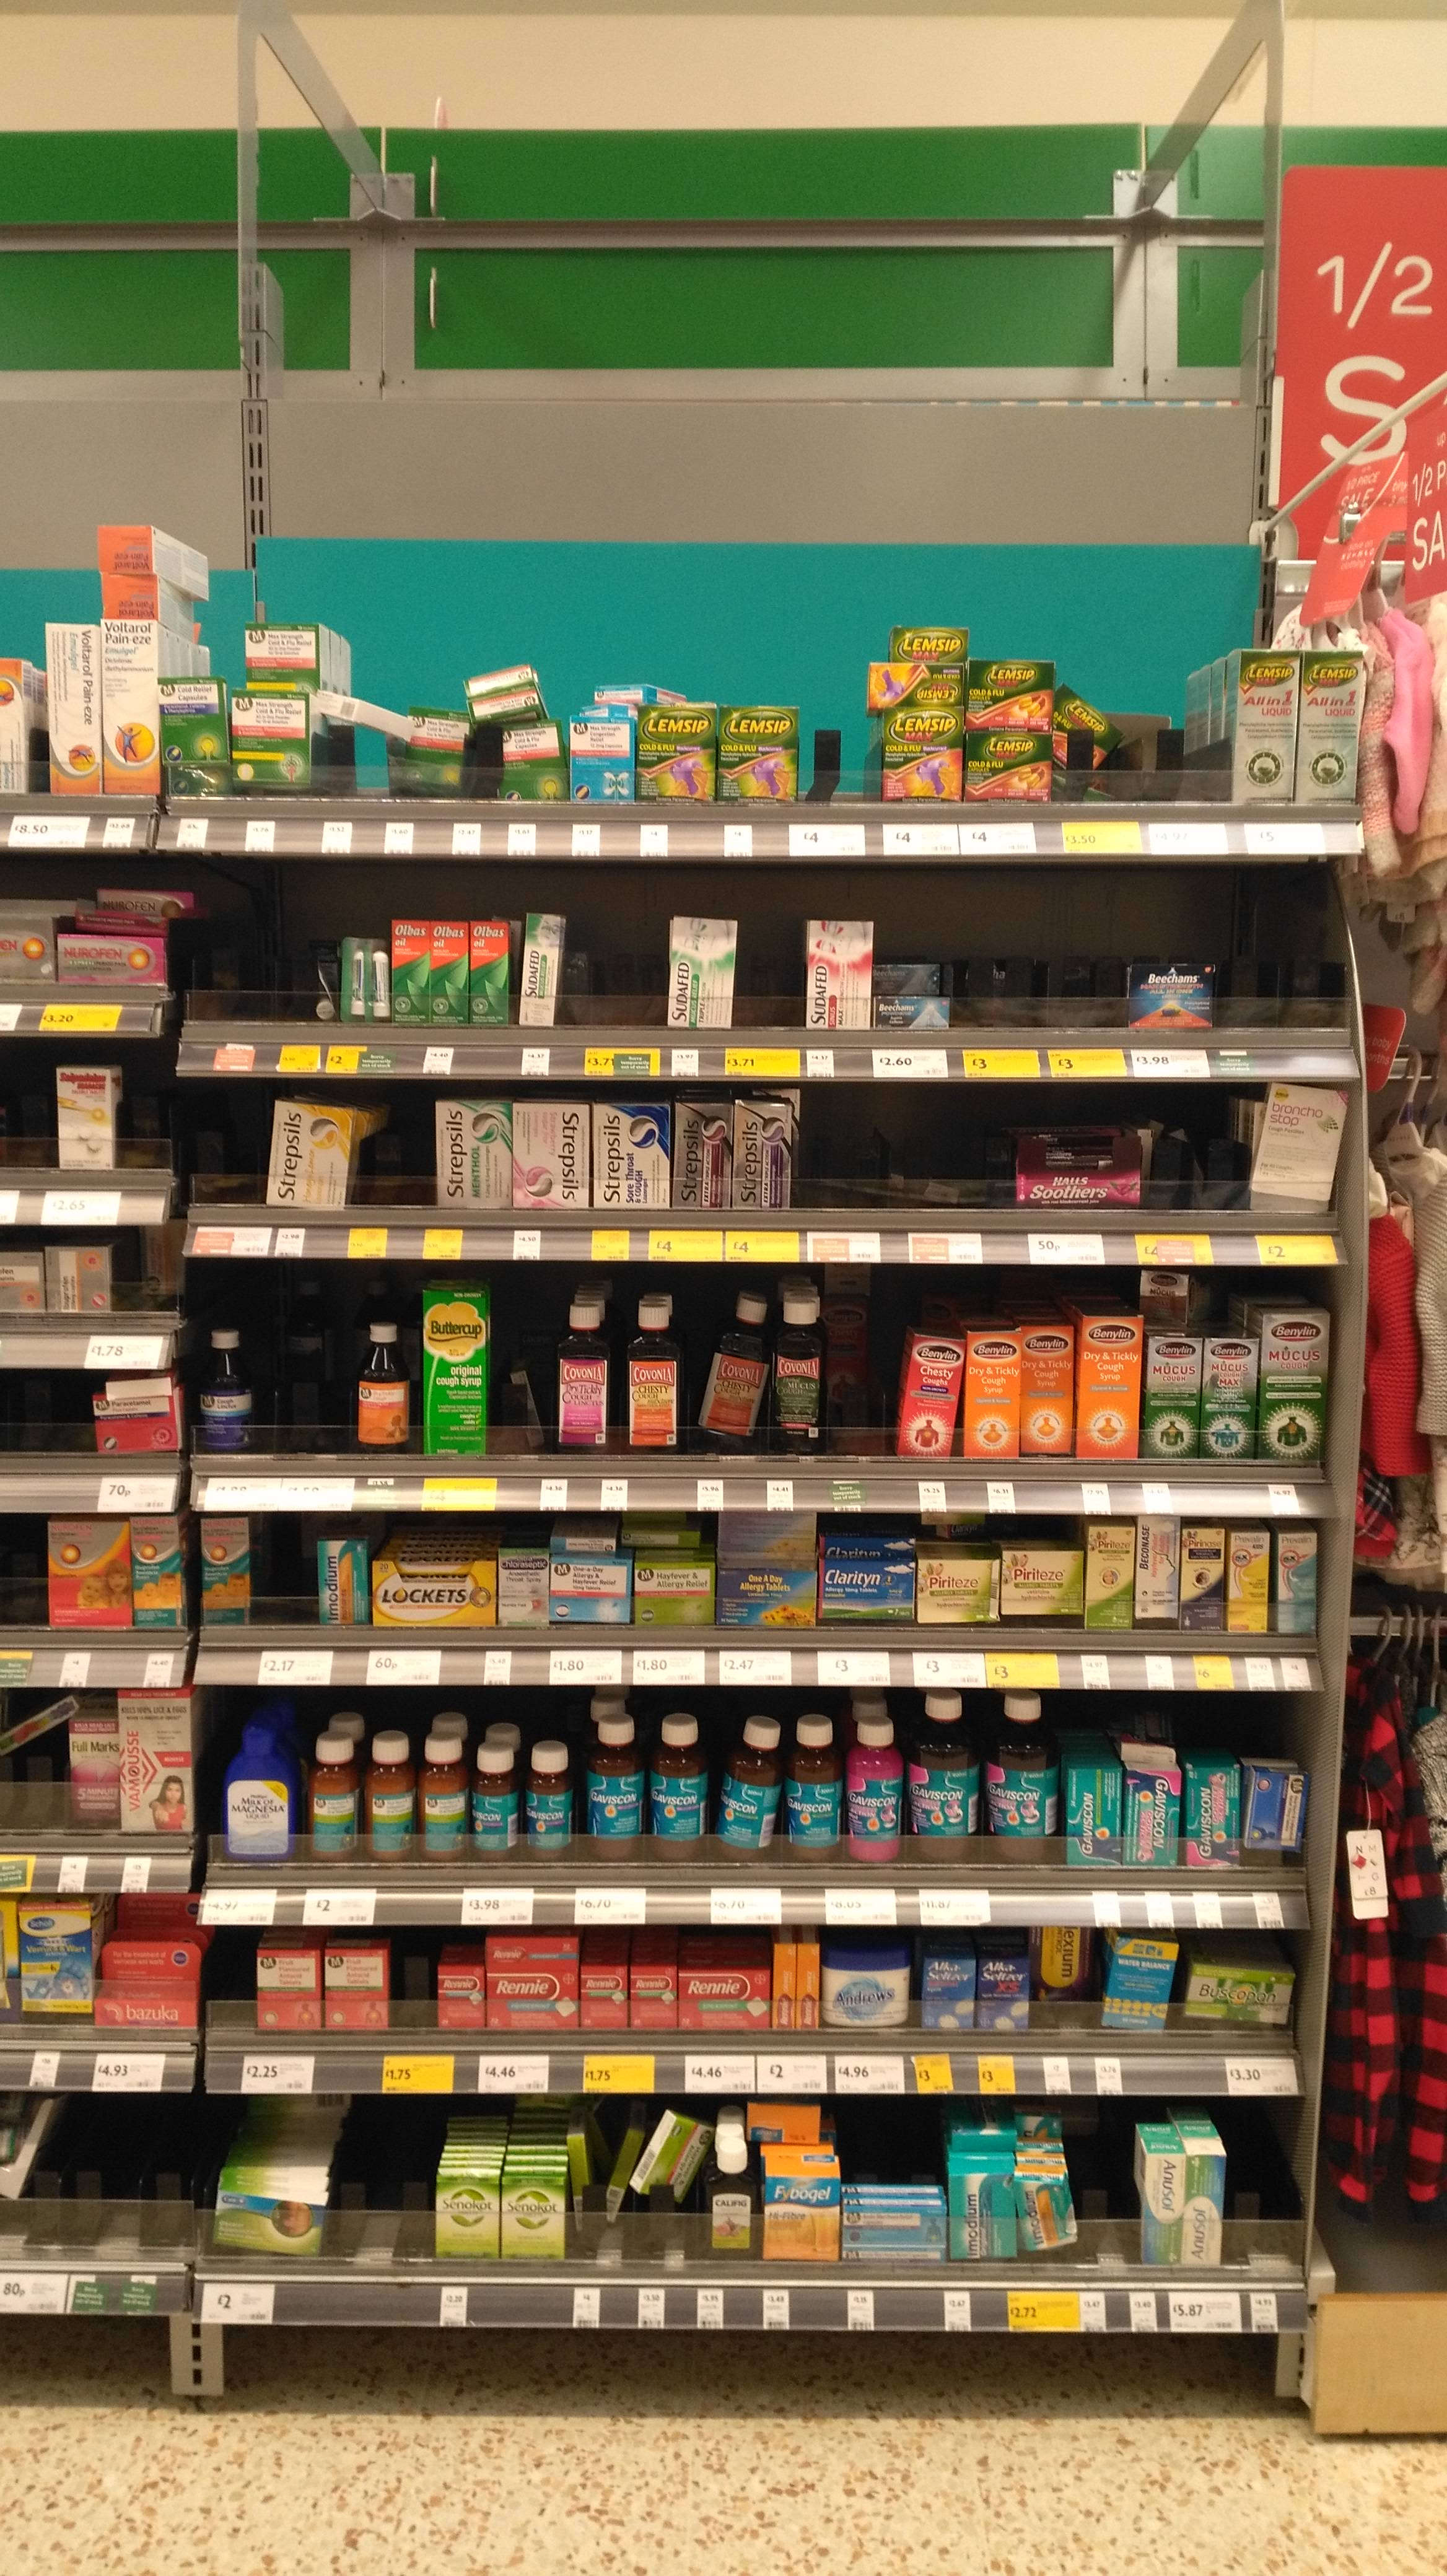Misplacement: (322, 632, 571, 803)
